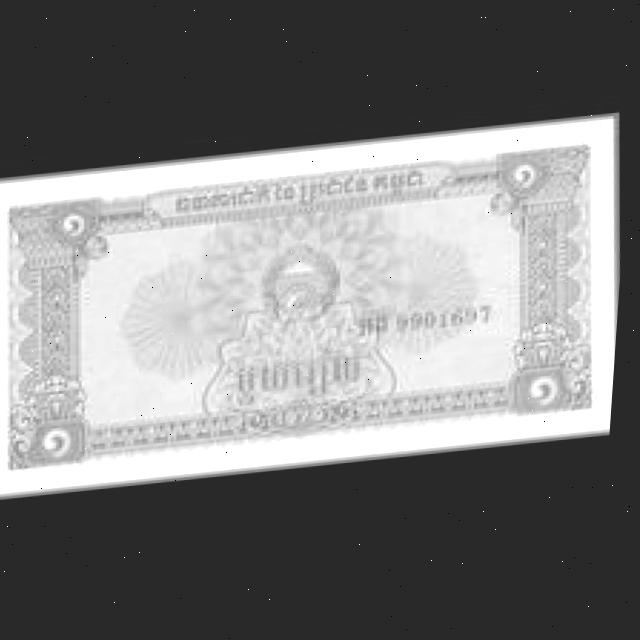banknote: (0, 119, 633, 495)
